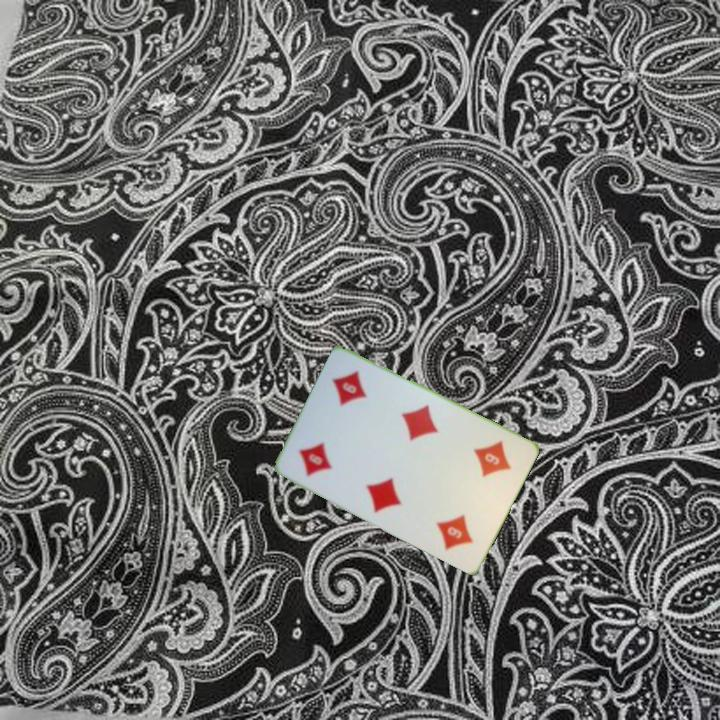d_6.png: (283, 410, 363, 494), (448, 425, 528, 509)
